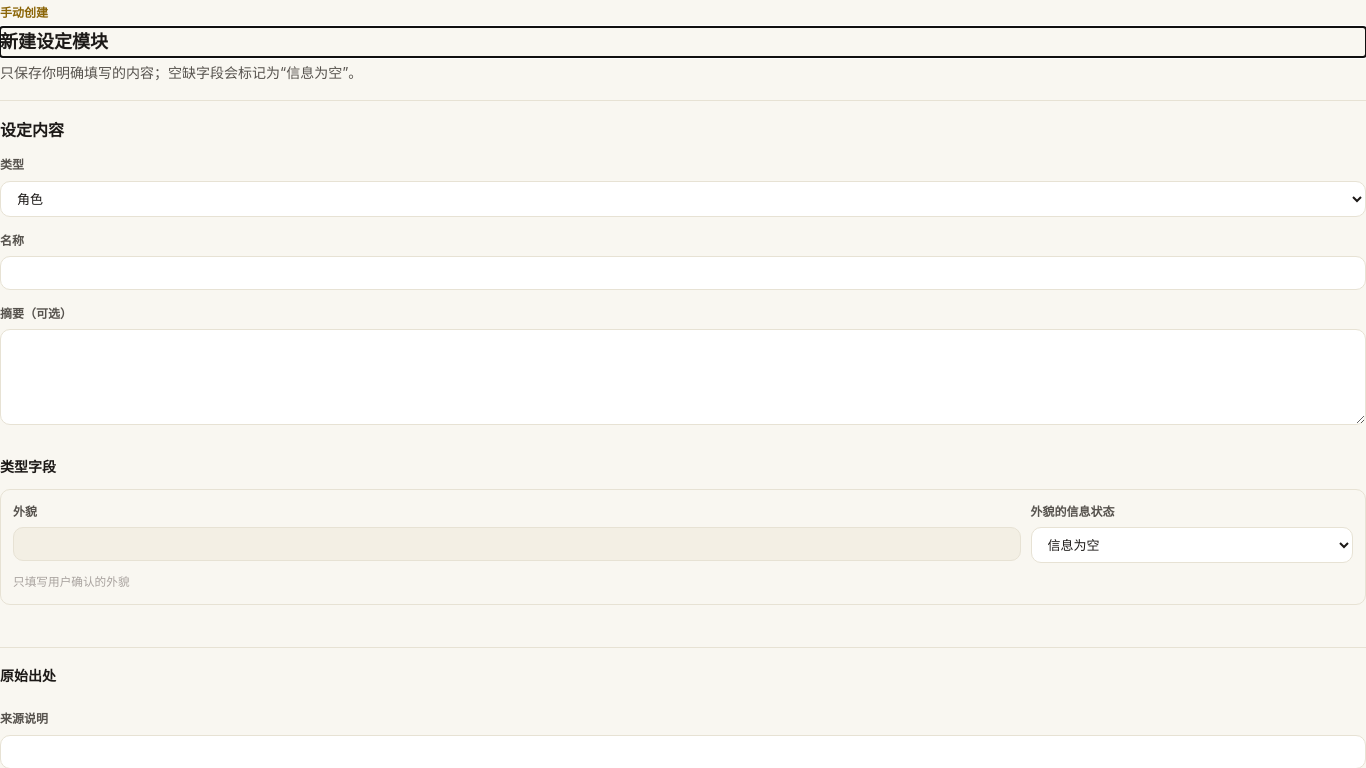
LoreCreateForm › separates idempotency conflicts from retryable element conflicts
In the field labelled "名称": [683, 273] box [0,256,1365,290], type "林渊"
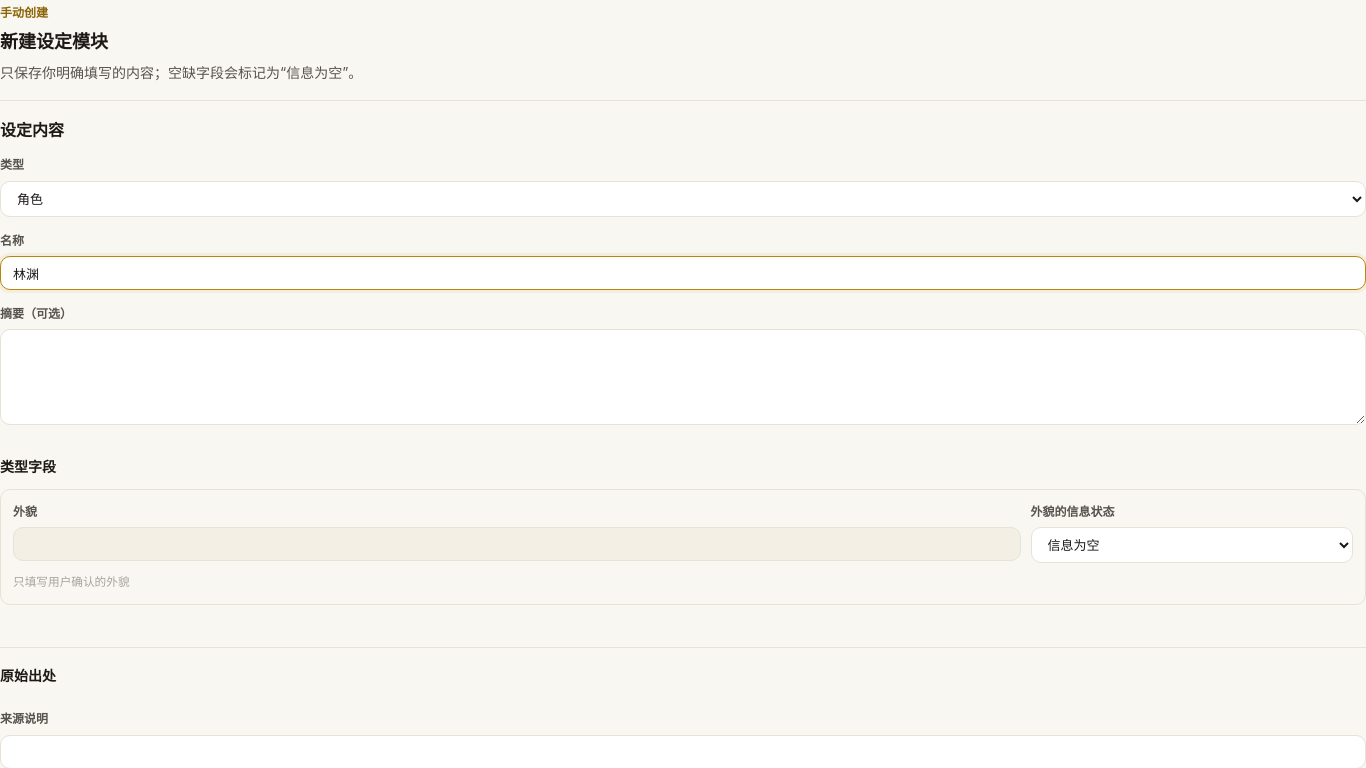
Select "已确认有内容" in the dropdown labelled "外貌的信息状态": [1192, 545] box [1031,527,1353,563]
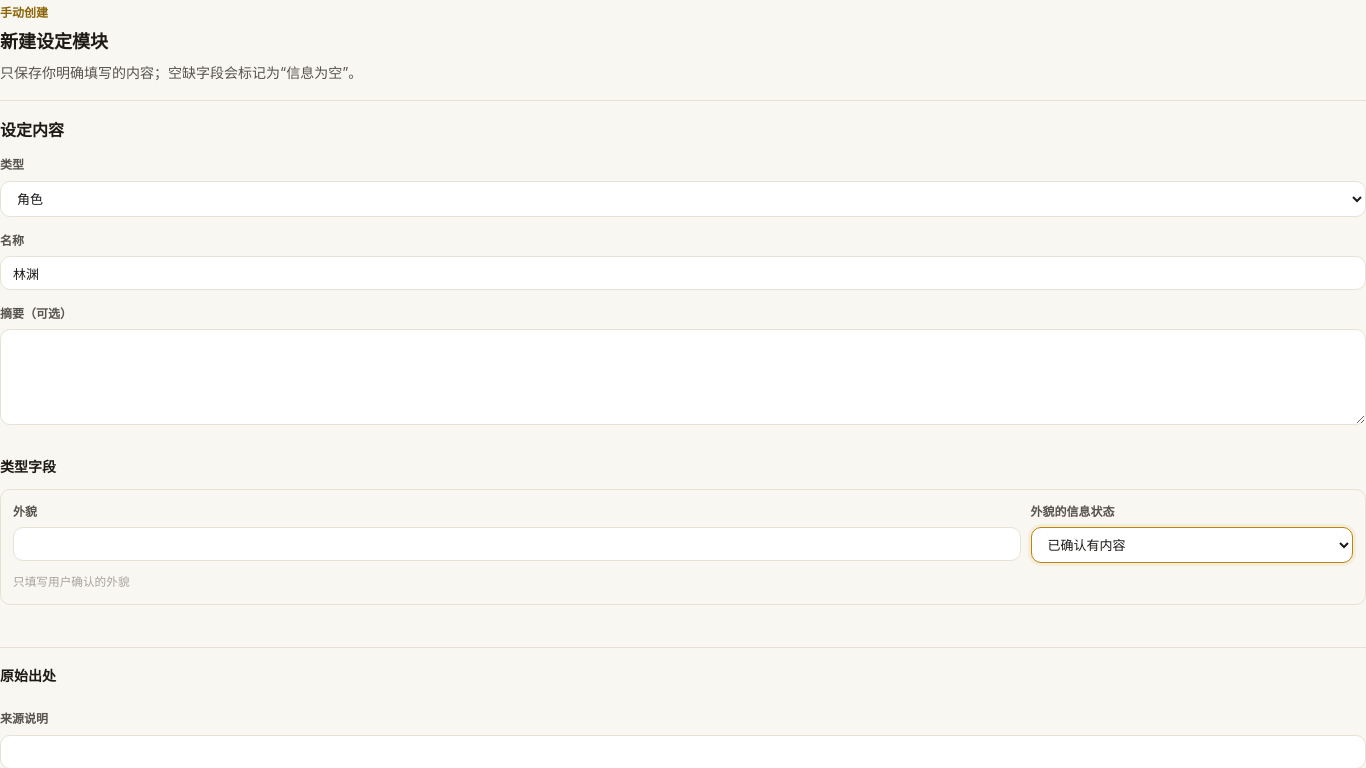
In the field labelled "外貌": [517, 544] box [13,527,1021,561], type "黑发"
(page scrolled)
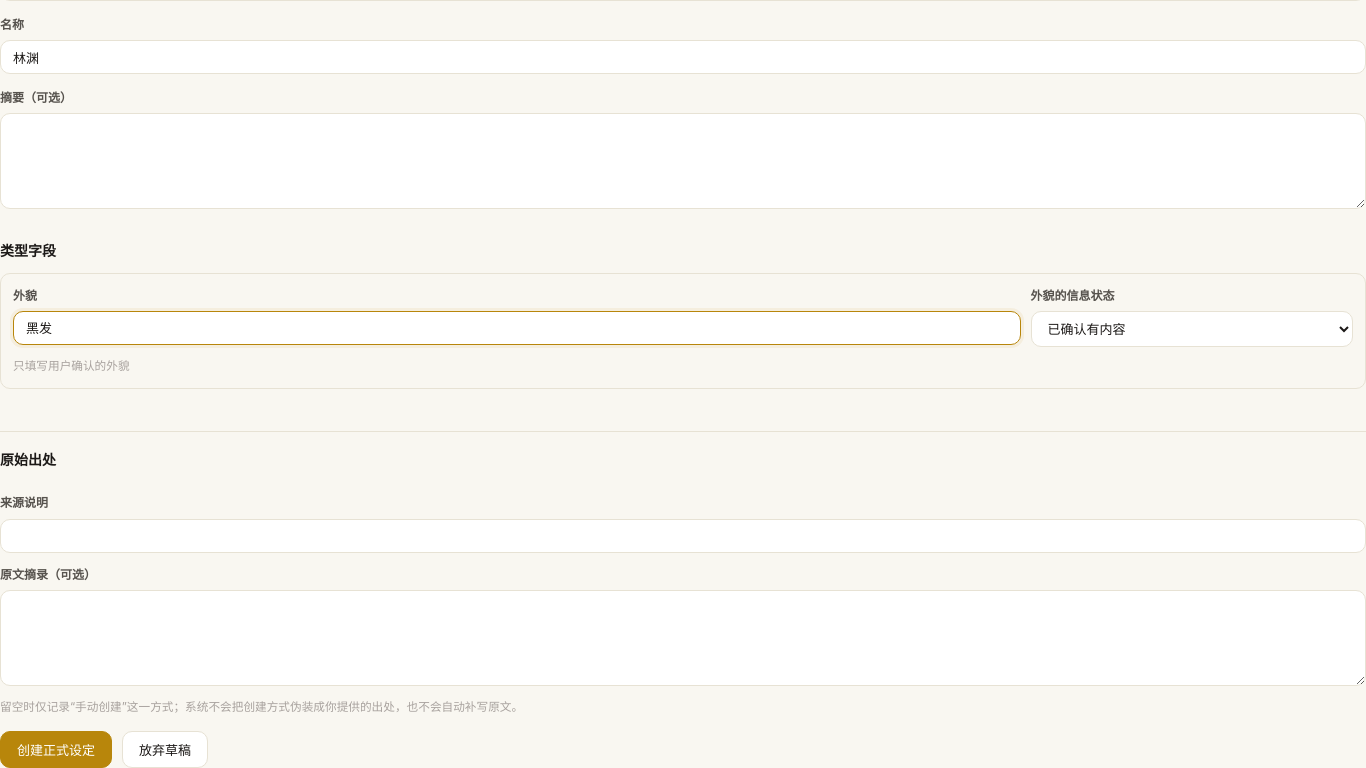
In the text box labelled "原文摘录（可选）": [683, 638] box [0,590,1365,686], type "林渊有一头黑发。"
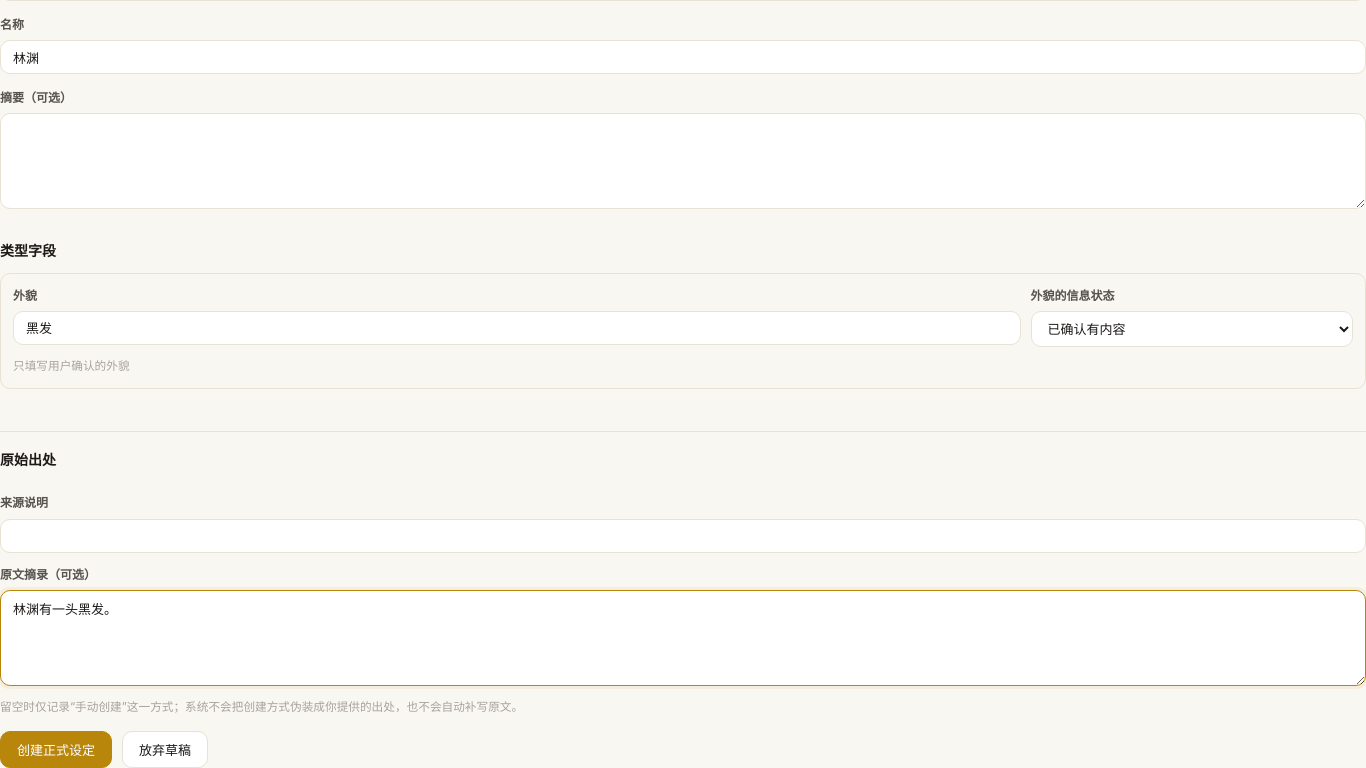
Click the button "创建正式设定": [56, 750] box [0,731,112,767]
(page scrolled)
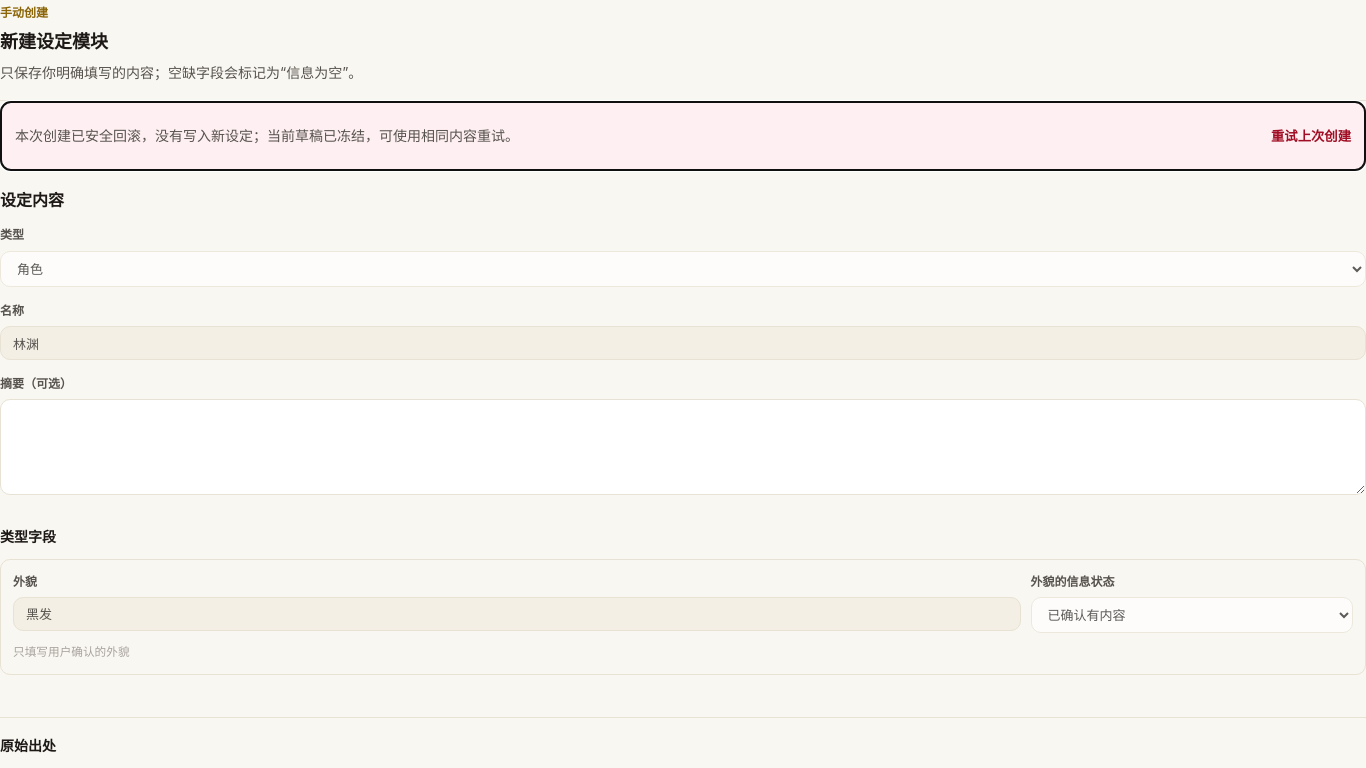
Click the button "重试上次创建": [1311, 136] box [1271,114,1351,158]
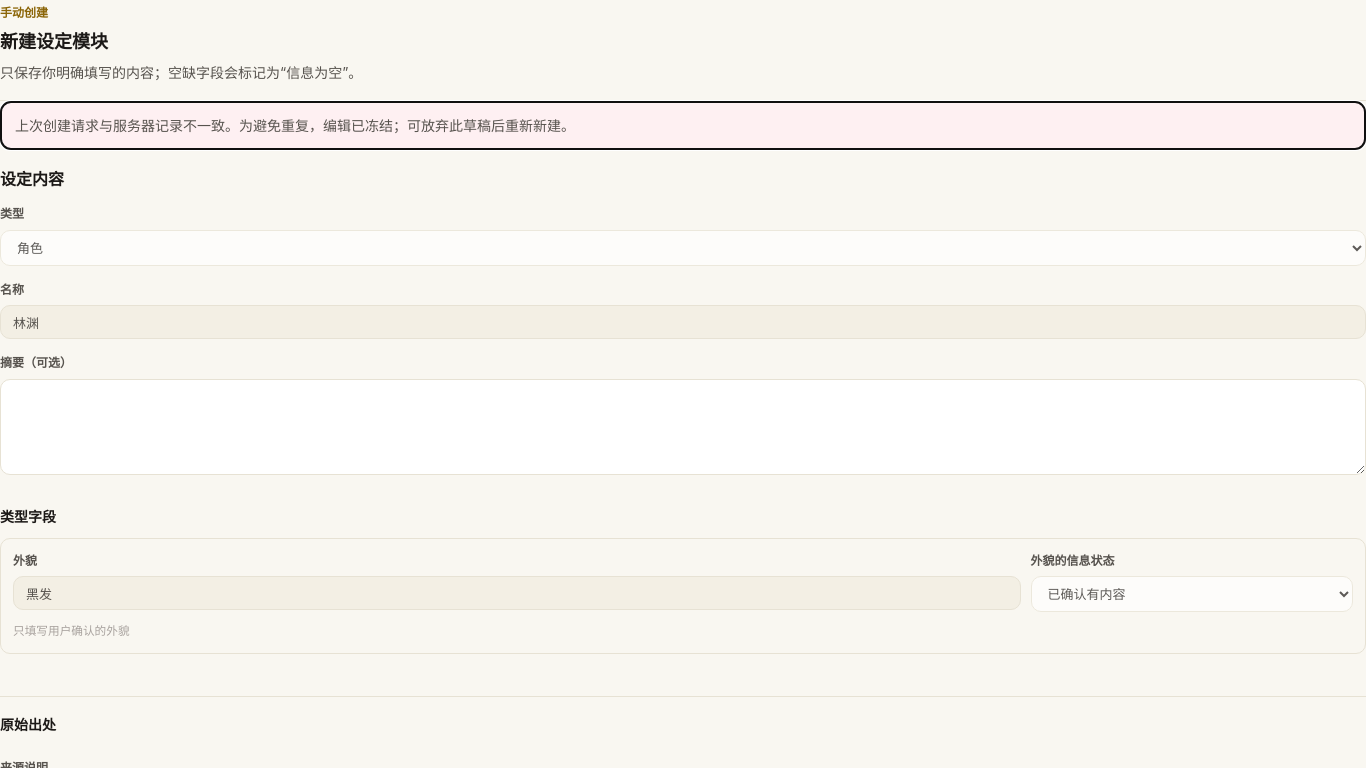
Expected: the message does not show "操作编号", [0,101,1365,150]
Result: the message shows "服务器记录不一致" at [15,117,575,134]
Result: the button "重试上次创建" is gone
